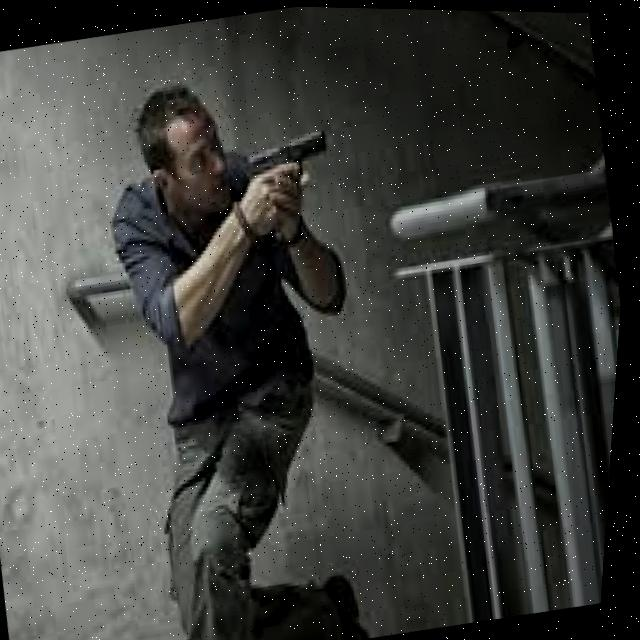pistol: (242, 122, 336, 187)
